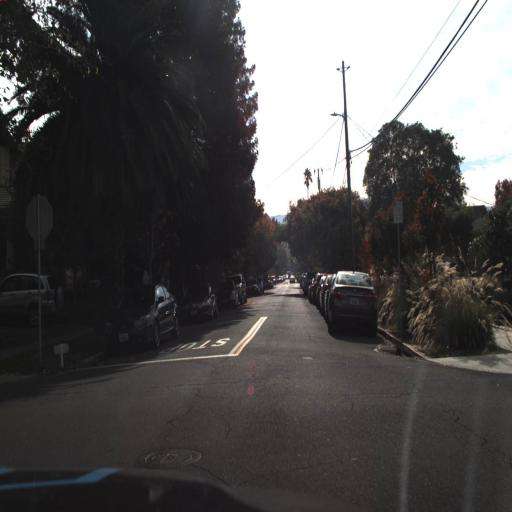car: (102, 284, 180, 353), (2, 267, 64, 322), (326, 270, 381, 332), (178, 282, 219, 324), (230, 270, 247, 306), (218, 278, 238, 308)
